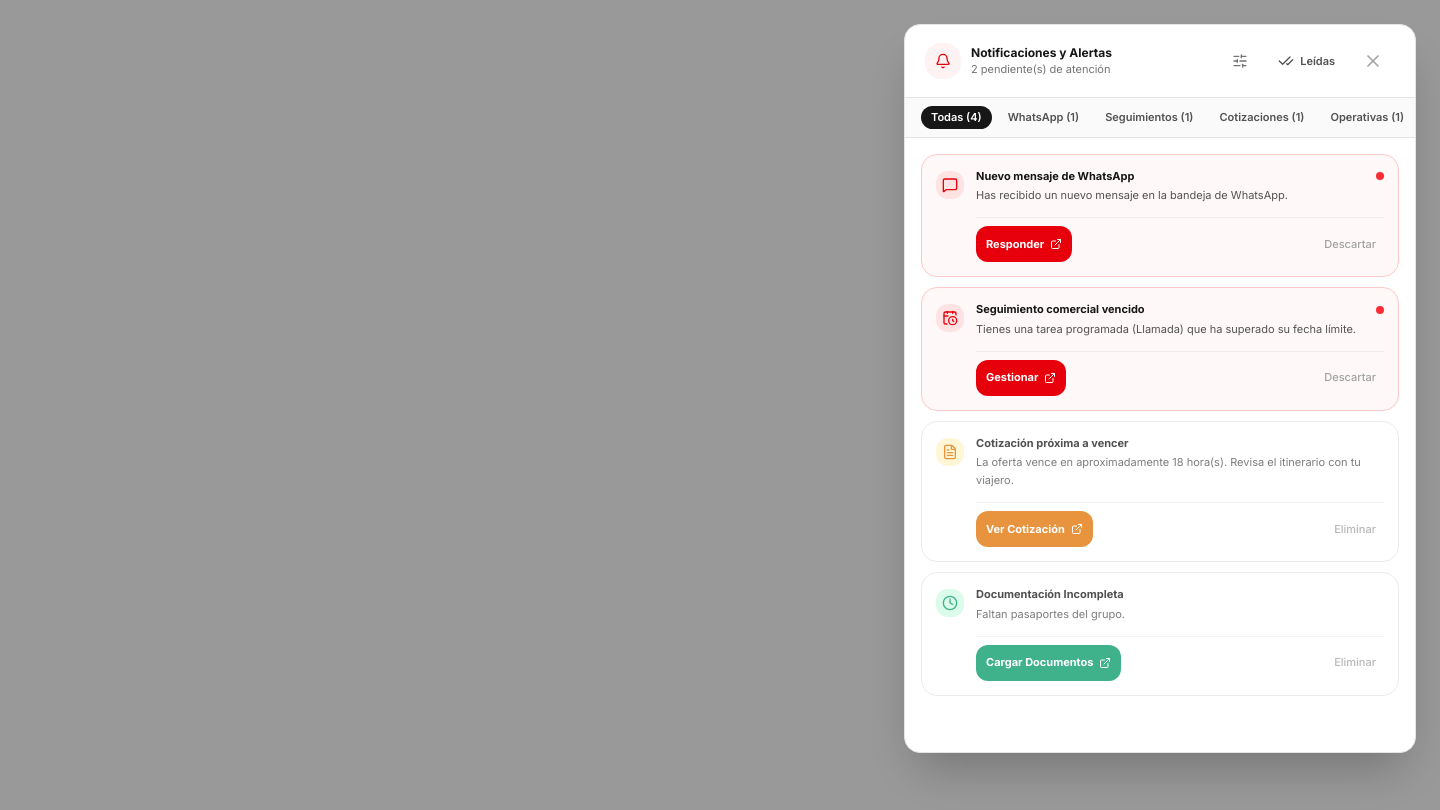
Scenario: Componente PanelNotificaciones (T-110) › permite alternar el panel de preferencias de aviso del asesor
// Abrir preferencias
Click the button with test id "boton-ajustes-notificaciones".
click(1240, 61)  # box [1218, 39, 1262, 83]
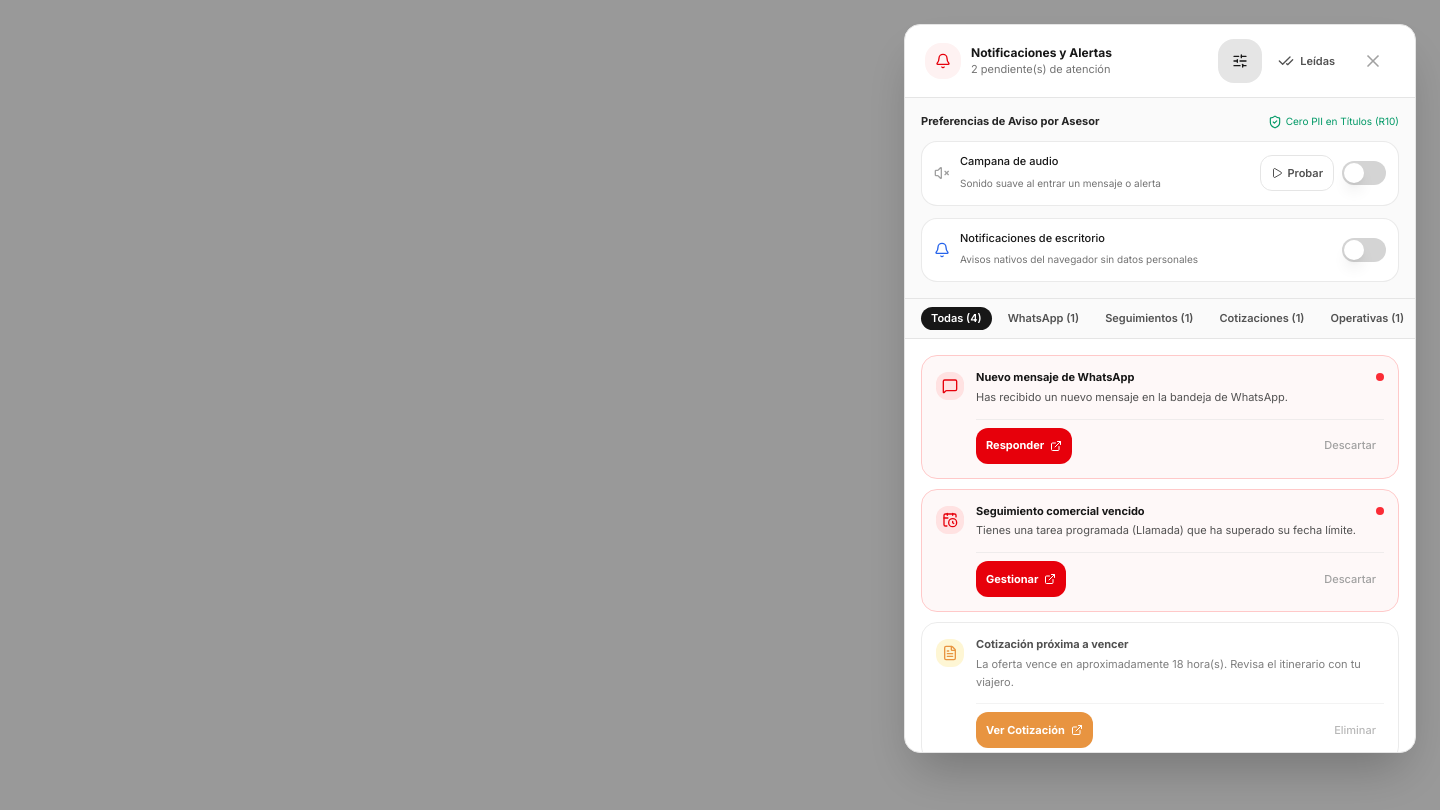
Expected: the element with test id "seccion-preferencias-notificaciones" is shown, [905, 98, 1415, 299]
Expected: the text "Preferencias de Aviso por Asesor" is shown, [921, 114, 1099, 129]
Expected: the text "Cero PII en Títulos (R10)" is shown, [1286, 114, 1399, 129]
